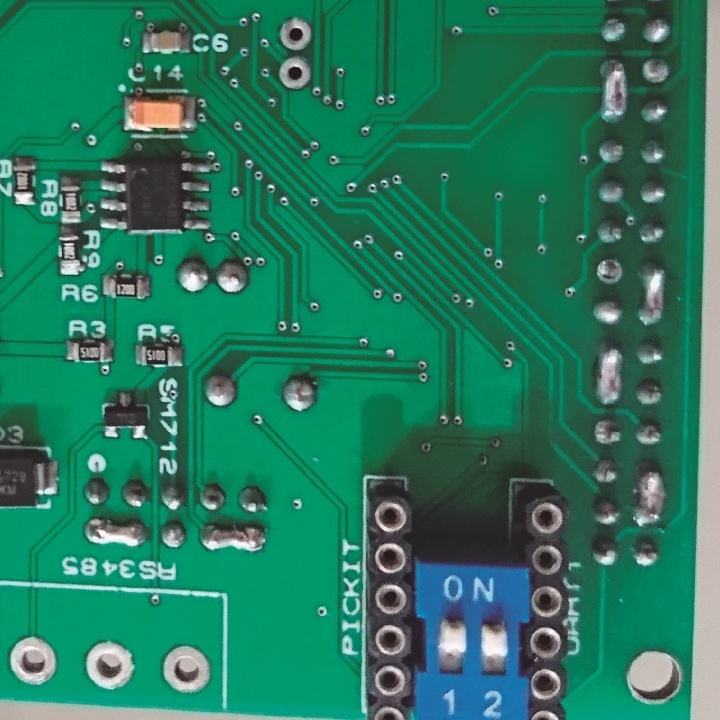F: (84, 637, 137, 695), (7, 631, 58, 689), (163, 642, 202, 694), (276, 54, 312, 92), (278, 15, 313, 54), (640, 54, 672, 87), (596, 254, 625, 289)
P: (81, 512, 149, 548), (198, 523, 273, 555), (592, 339, 625, 406), (601, 56, 631, 125), (636, 465, 667, 530), (640, 258, 667, 326)
